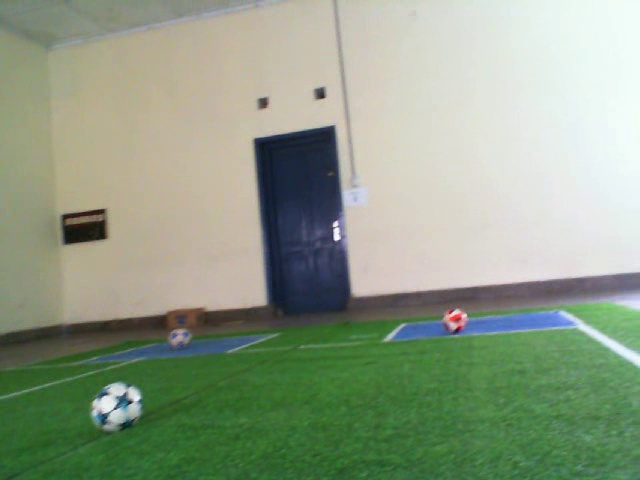ball: (88, 378, 148, 437), (440, 306, 472, 336), (166, 325, 195, 352)
